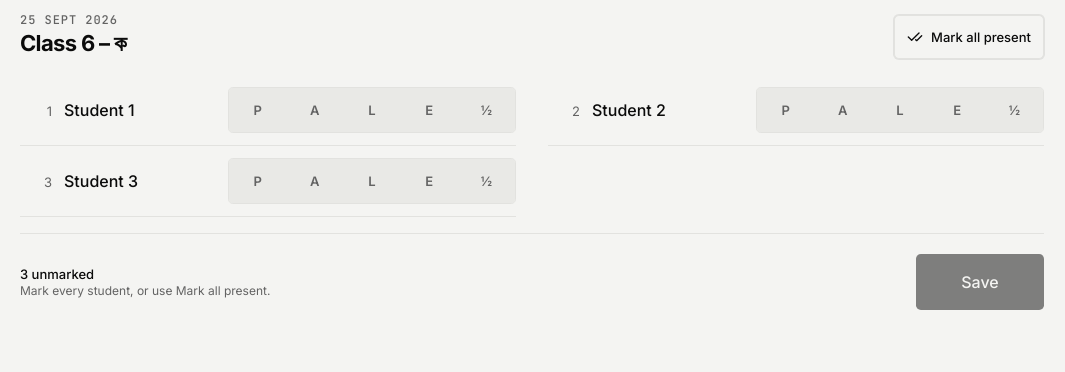
Test case: RollCall offline (F-ID-11 Part 2a) › if the phone cannot keep it (no IndexedDB), says so and keeps the marks
Click the button "Mark all present": (969, 37) [894,15,1044,59]
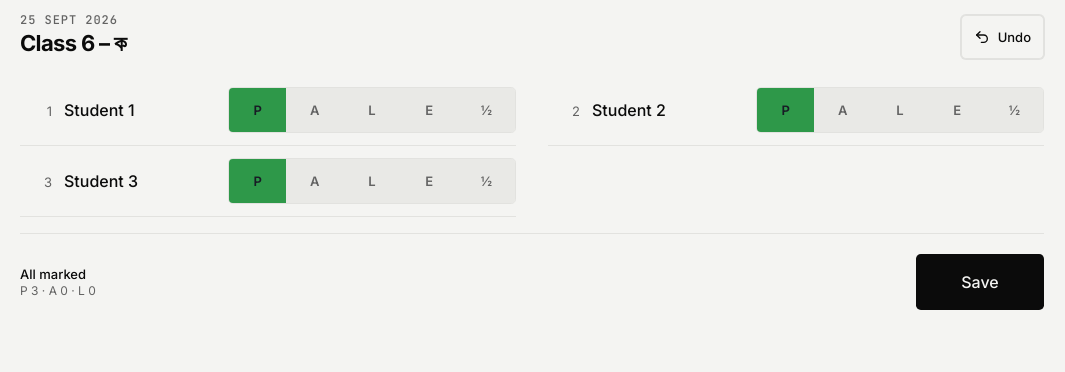
Click the button "Save": (980, 282) [916,254,1044,310]
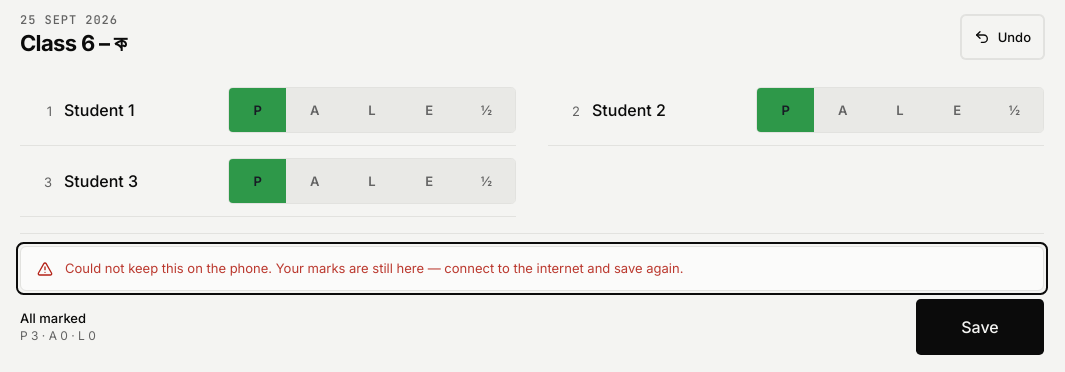
Now the text "P 3 · A 0 · L 0" is shown, box [20,328,96,343]
Now the text "Could not keep this on the phone. Your marks are still here — connect to the internet and save again." is shown, box [65,260,683,276]
